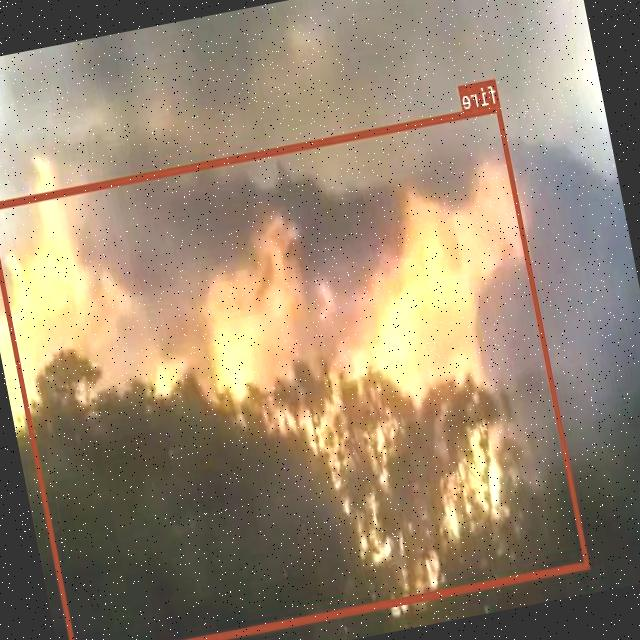fire: (0, 103, 590, 640)
